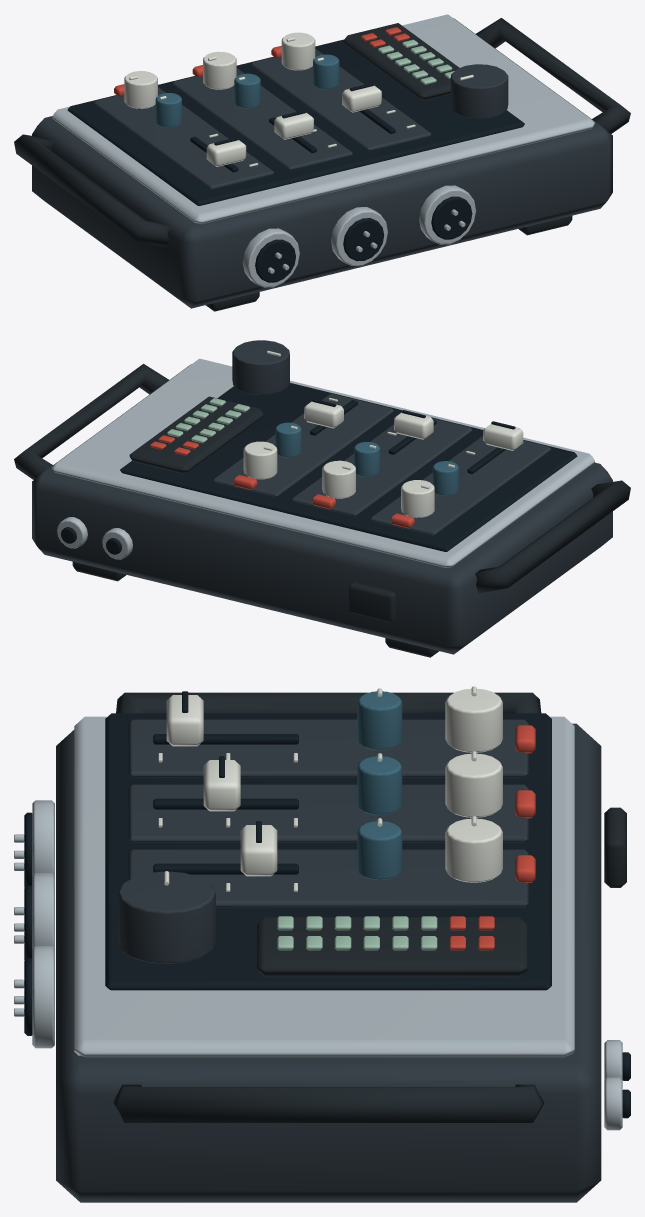
File: P061_field_mixer_rebuilt.glb
3 views of the same model, one above another, from view 1: azimuth 30°, elevation 25°; view 2: azimuth 150°, elevation 25°; view 3: azimuth 270°, elevation 25° (orthographic). The views are drawn at different scales.
Visible parts, largest first — view 1: Graphite_molded_housing, Satin_aluminum_fittings, Recess_and_speaker_cloth, Molded_rubber_contact_pads, Ivory_control_caps, LCD_blue_grey_glass, LCD_readable_segments, Safety_red_control; view 2: Graphite_molded_housing, Satin_aluminum_fittings, Recess_and_speaker_cloth, Molded_rubber_contact_pads, Ivory_control_caps, LCD_blue_grey_glass, Safety_red_control, LCD_readable_segments; view 3: Graphite_molded_housing, Satin_aluminum_fittings, Recess_and_speaker_cloth, Molded_rubber_contact_pads, Ivory_control_caps, LCD_blue_grey_glass, LCD_readable_segments, Safety_red_control.
Boxes of the visible parts, x1,y1,x2,y2 form: Graphite_molded_housing: (32,18,612,308); Satin_aluminum_fittings: (52,14,594,287); Recess_and_speaker_cloth: (67,39,524,282); Molded_rubber_contact_pads: (14,18,630,311); Ivory_control_caps: (124,32,473,166); LCD_blue_grey_glass: (155,54,339,127); LCD_readable_segments: (378,39,454,84); Safety_red_control: (114,27,409,96); Graphite_molded_housing: (32,340,612,654); Satin_aluminum_fittings: (52,358,594,567); Recess_and_speaker_cloth: (61,383,577,554); Molded_rubber_contact_pads: (14,364,630,657); Ivory_control_caps: (243,350,523,517); LCD_blue_grey_glass: (275,422,458,495); Safety_red_control: (150,435,414,528); LCD_readable_segments: (167,398,249,443); Graphite_molded_housing: (56,719,601,1202); Satin_aluminum_fittings: (14,716,622,1130); Recess_and_speaker_cloth: (24,691,630,1118); Molded_rubber_contact_pads: (113,692,626,1122); Ivory_control_caps: (158,686,502,891); LCD_blue_grey_glass: (357,691,402,880); LCD_readable_segments: (277,916,437,950); Safety_red_control: (449,725,535,950).
Size of the model in its own units: 0.4691 by 0.1397 by 0.301.
